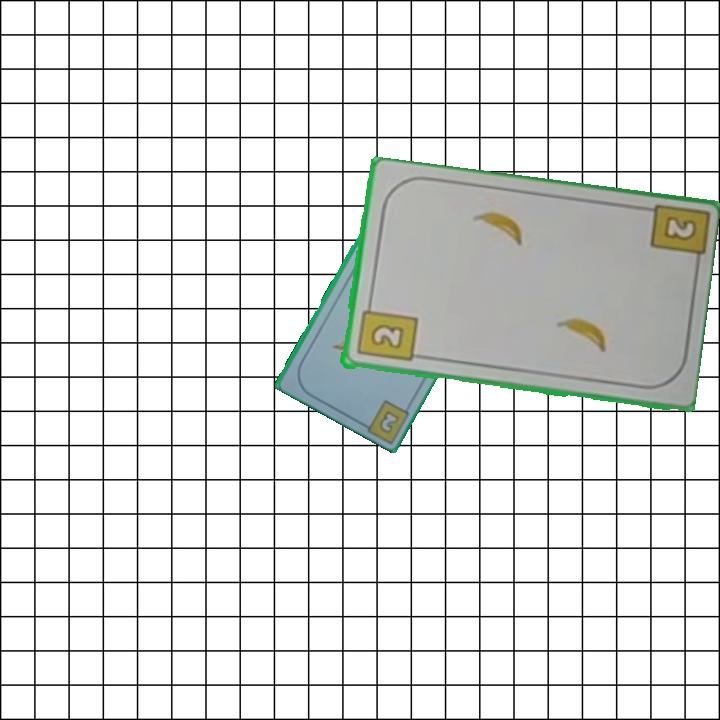2b: (353, 298, 419, 365), (659, 213, 700, 244), (376, 407, 402, 436)
